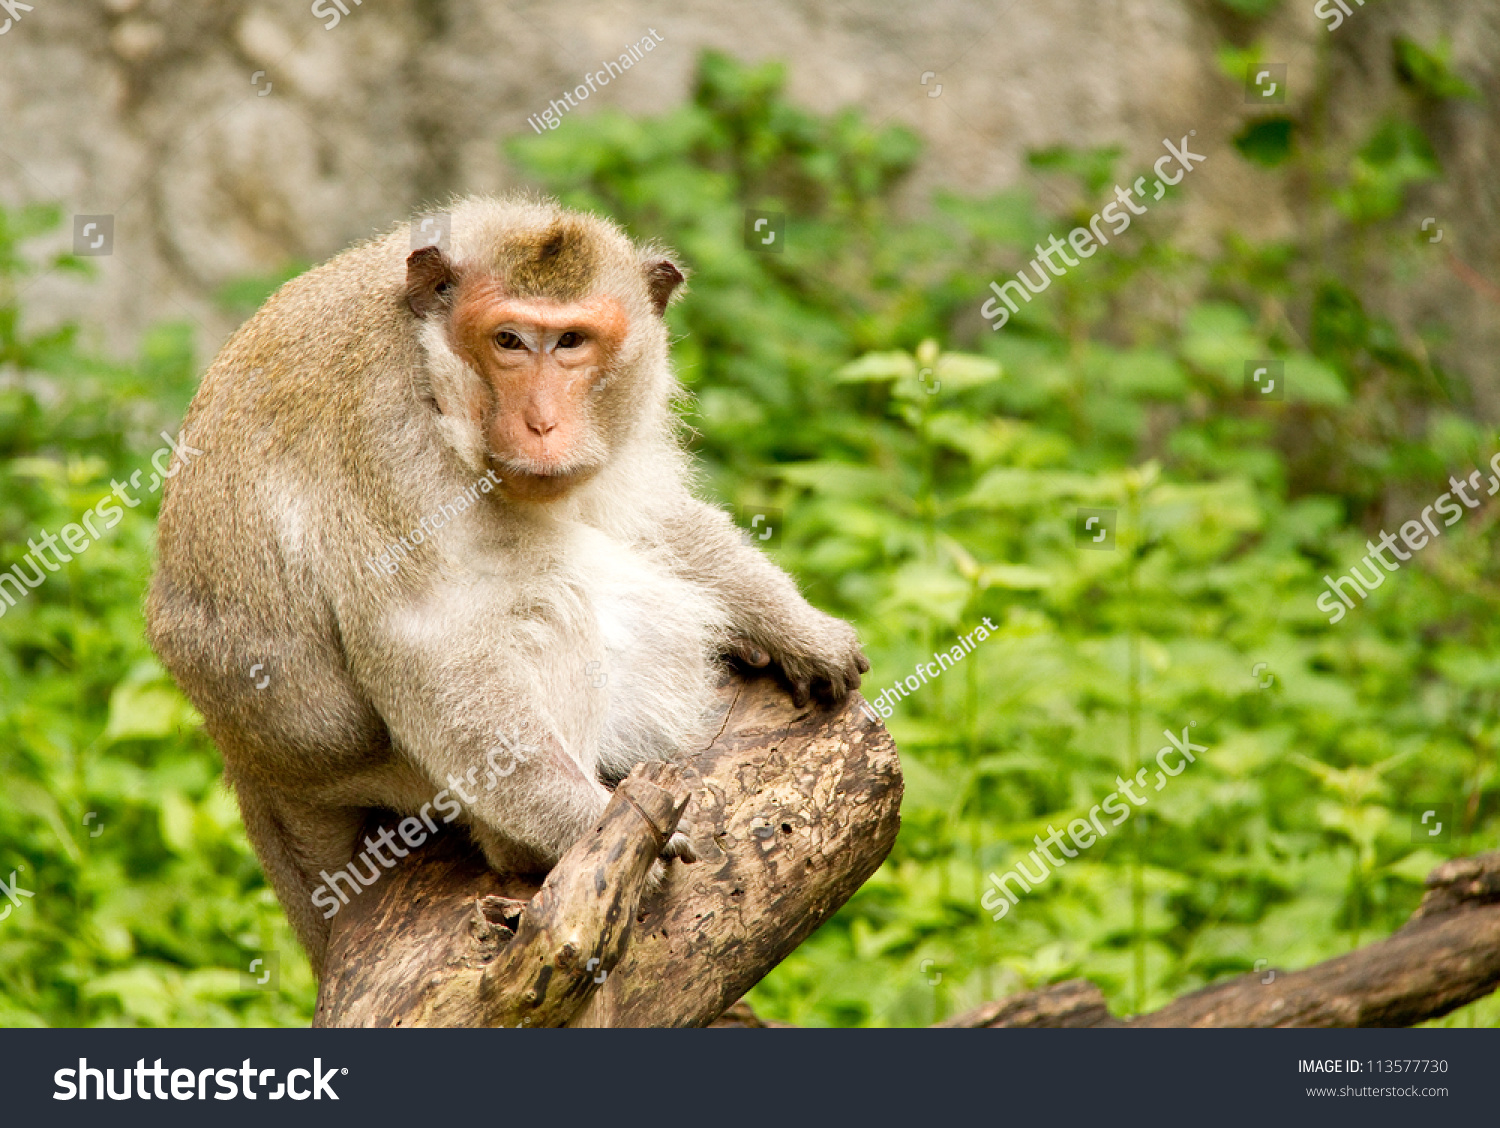monkey: (123, 185, 932, 1007)
